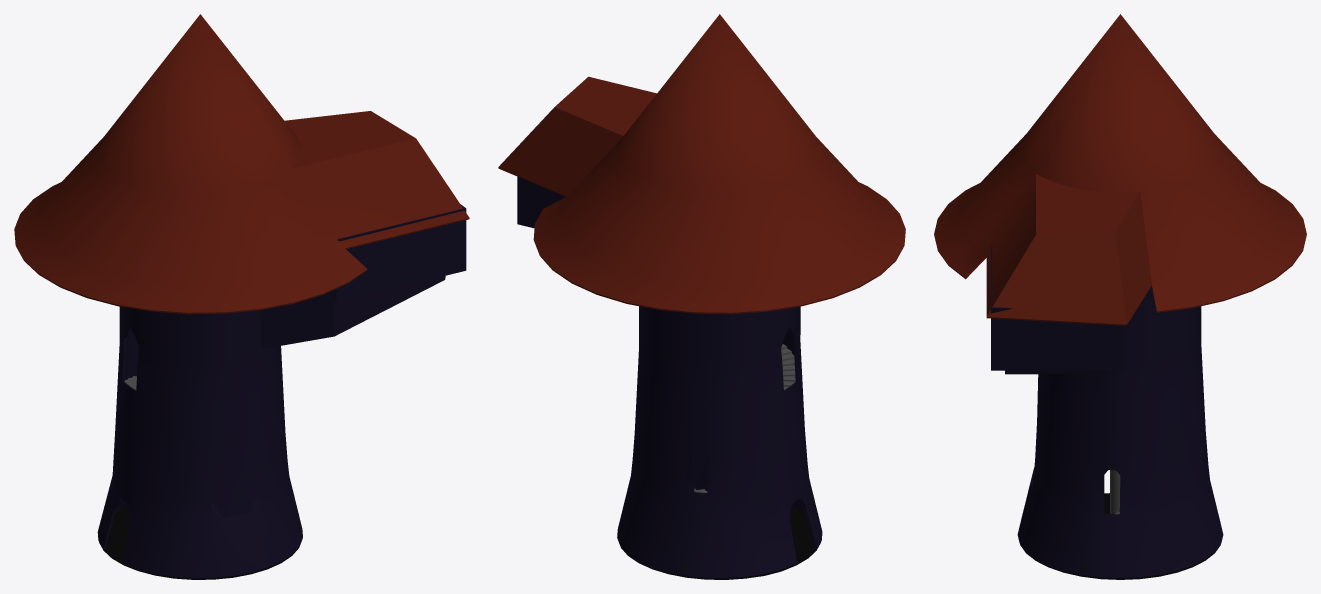
Rendered from Tower 4.fbx.
The picture shows the model from 3 angles, left to right: view 1: azimuth 30°, elevation 25°; view 2: azimuth 150°, elevation 25°; view 3: azimuth 270°, elevation 25°; orthographic projection.
Parts seen in each view (by area): view 1: Cone, Cylinder.001, Circle.001, Circle; view 2: Cone, Cylinder.001, Circle.001, Circle, Cube; view 3: Cone, Cylinder.001, Circle.001, Circle.
Boxes of the visible parts, left/top/right/bottom form: Cone: left=14, top=14, right=469, bottom=314; Cylinder.001: left=97, top=306, right=302, bottom=578; Circle.001: left=260, top=204, right=466, bottom=349; Circle: left=99, top=506, right=299, bottom=579; Cone: left=498, top=14, right=905, bottom=314; Cylinder.001: left=617, top=306, right=822, bottom=578; Circle.001: left=517, top=176, right=565, bottom=228; Circle: left=619, top=506, right=820, bottom=579; Cube: left=694, top=344, right=795, bottom=492; Cone: left=934, top=14, right=1306, bottom=325; Cylinder.001: left=1017, top=286, right=1223, bottom=578; Circle.001: left=991, top=245, right=1122, bottom=374; Circle: left=1020, top=493, right=1220, bottom=579.
Size of the model in its own units: 2361 by 3109 by 2007.
